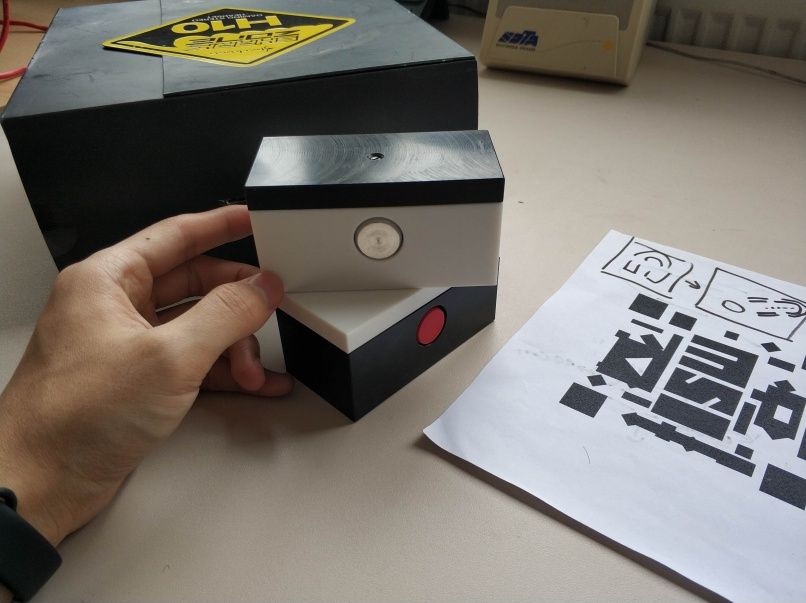black+white+silver: (240, 127, 507, 294)
white+black+red: (275, 285, 498, 428)
